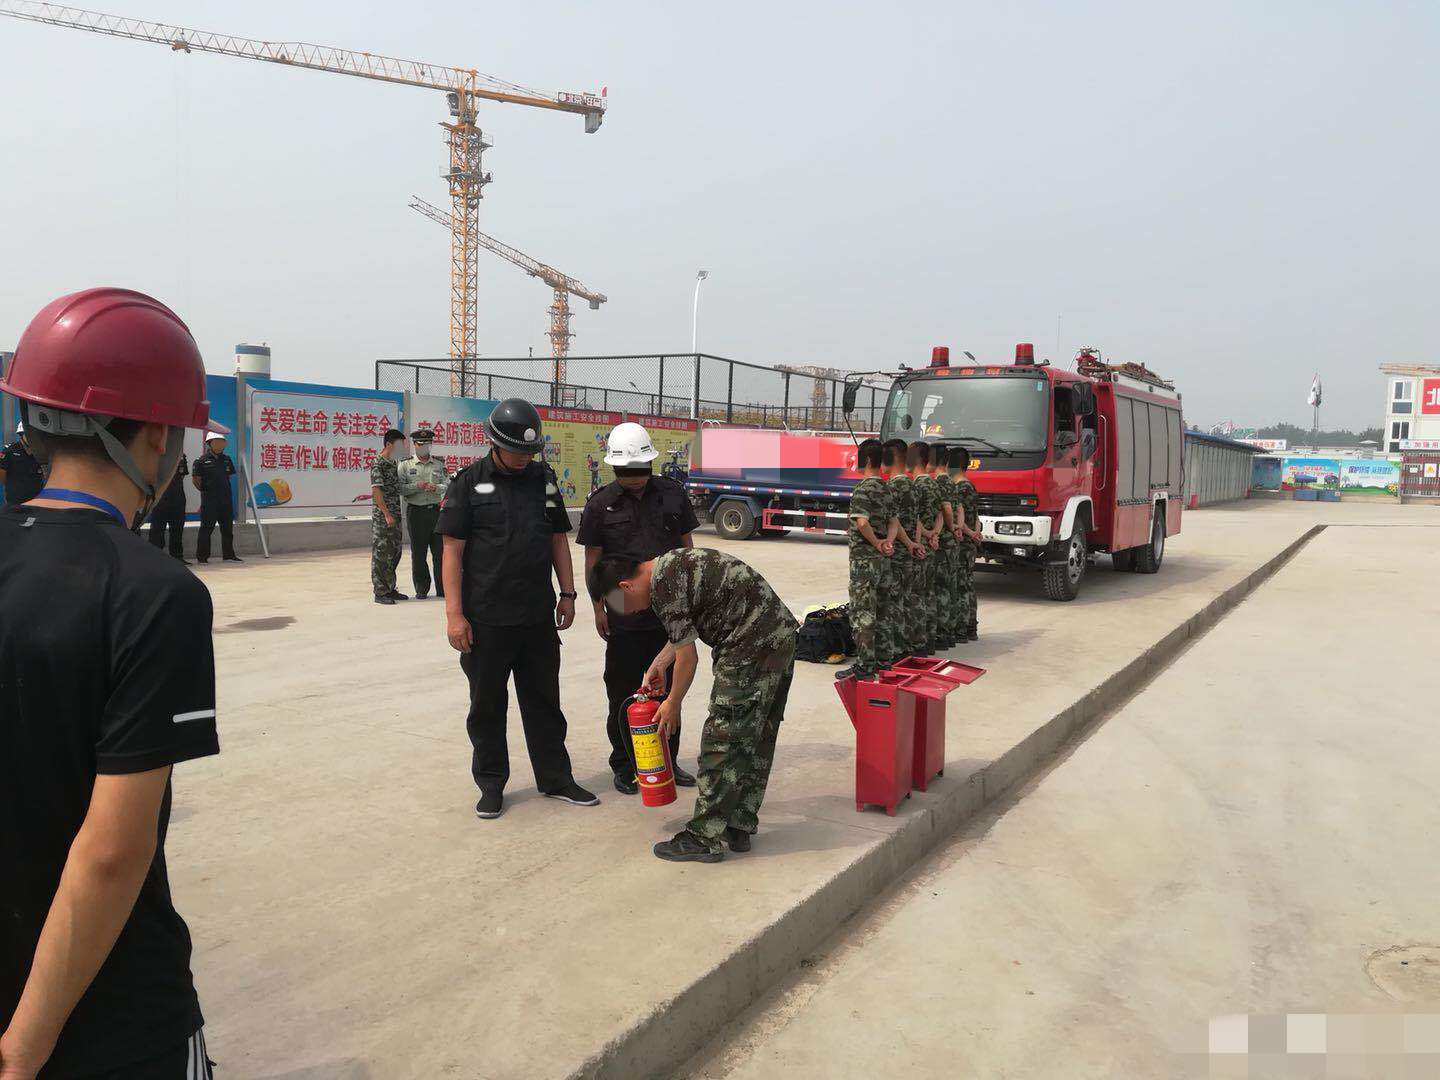helmet: (1, 285, 230, 434), (484, 398, 545, 454), (603, 421, 660, 467), (204, 429, 225, 442)
person: (1, 286, 236, 1080), (439, 395, 606, 823), (586, 546, 800, 867), (579, 419, 699, 800), (838, 441, 881, 680), (398, 427, 448, 601), (192, 428, 245, 565), (370, 427, 411, 604), (879, 438, 910, 662), (950, 446, 982, 647), (929, 442, 951, 652), (908, 441, 929, 658)
